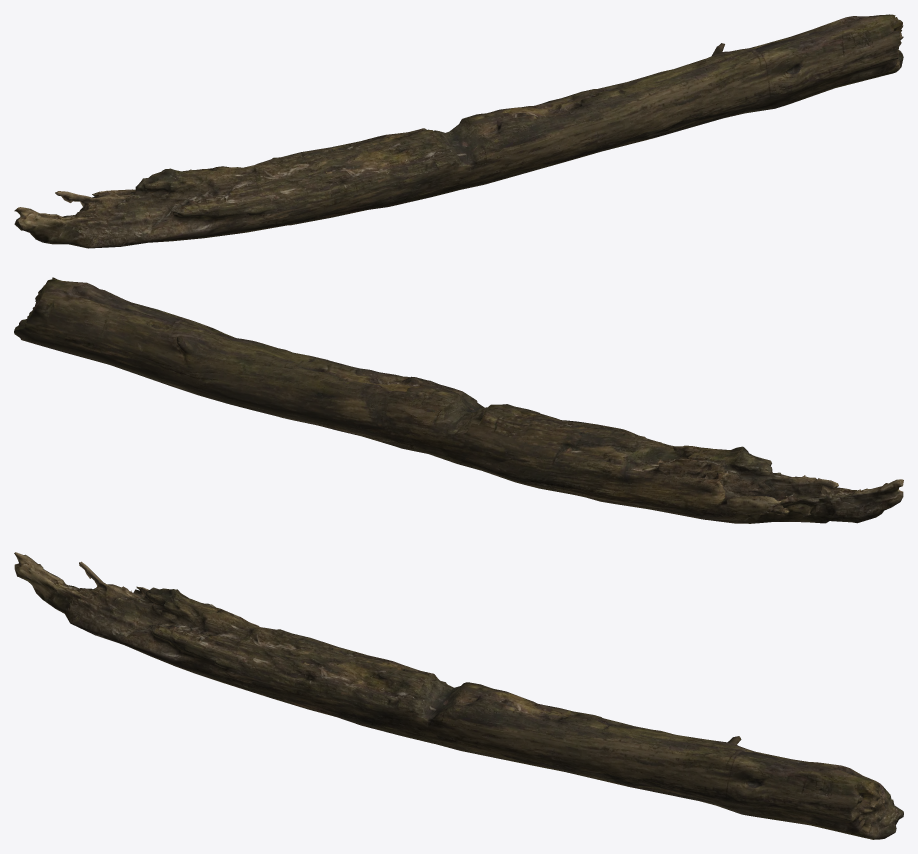
Rendered from dead_tree_trunk.glb.
The picture shows the model from 3 angles, top to bottom: view 1: azimuth 30°, elevation 25°; view 2: azimuth 150°, elevation 25°; view 3: azimuth 330°, elevation 25°; orthographic projection.
Parts seen in each view (by area): view 1: dead_tree_trunk; view 2: dead_tree_trunk; view 3: dead_tree_trunk.
Part boxes in pixels (x1,y1,x2,y2): dead_tree_trunk: [14, 14, 903, 248]; dead_tree_trunk: [14, 277, 903, 523]; dead_tree_trunk: [14, 552, 903, 839].
Bounding box in the file's own units: 3.05 × 0.2905 × 0.2771.
1 material, 1 textured.
